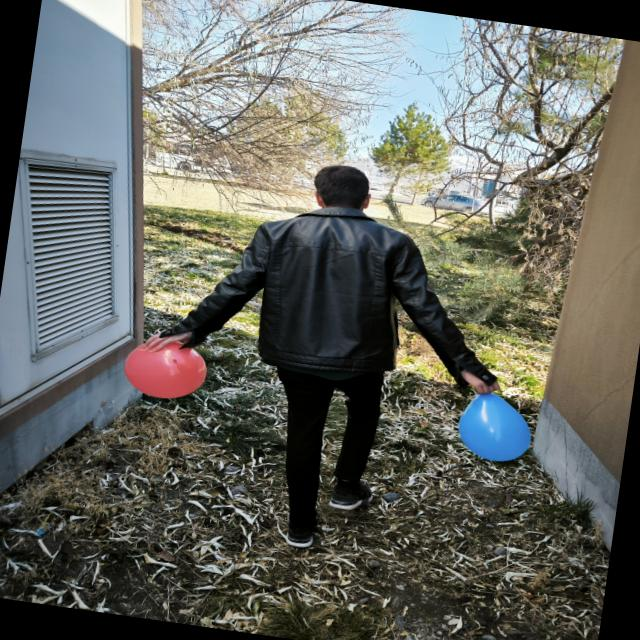balloon: (459, 393, 531, 461), (125, 343, 207, 399)
